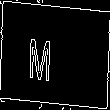M_N: (42, 28, 68, 82)
